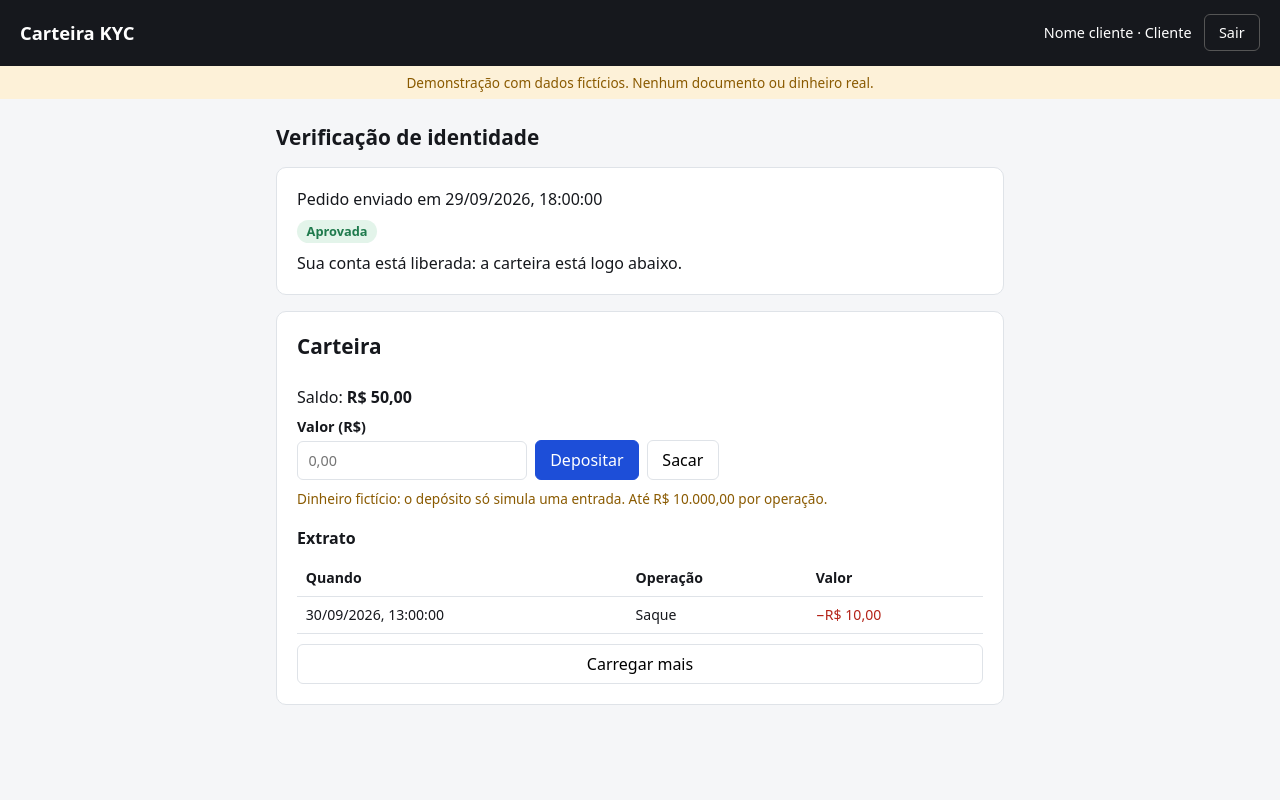
Test: carteira › carrega a página seguinte do extrato só com o cursor
Step 1. Click the button "Carregar mais" → (640, 664), box top-left (297, 644), bottom-right (983, 684)
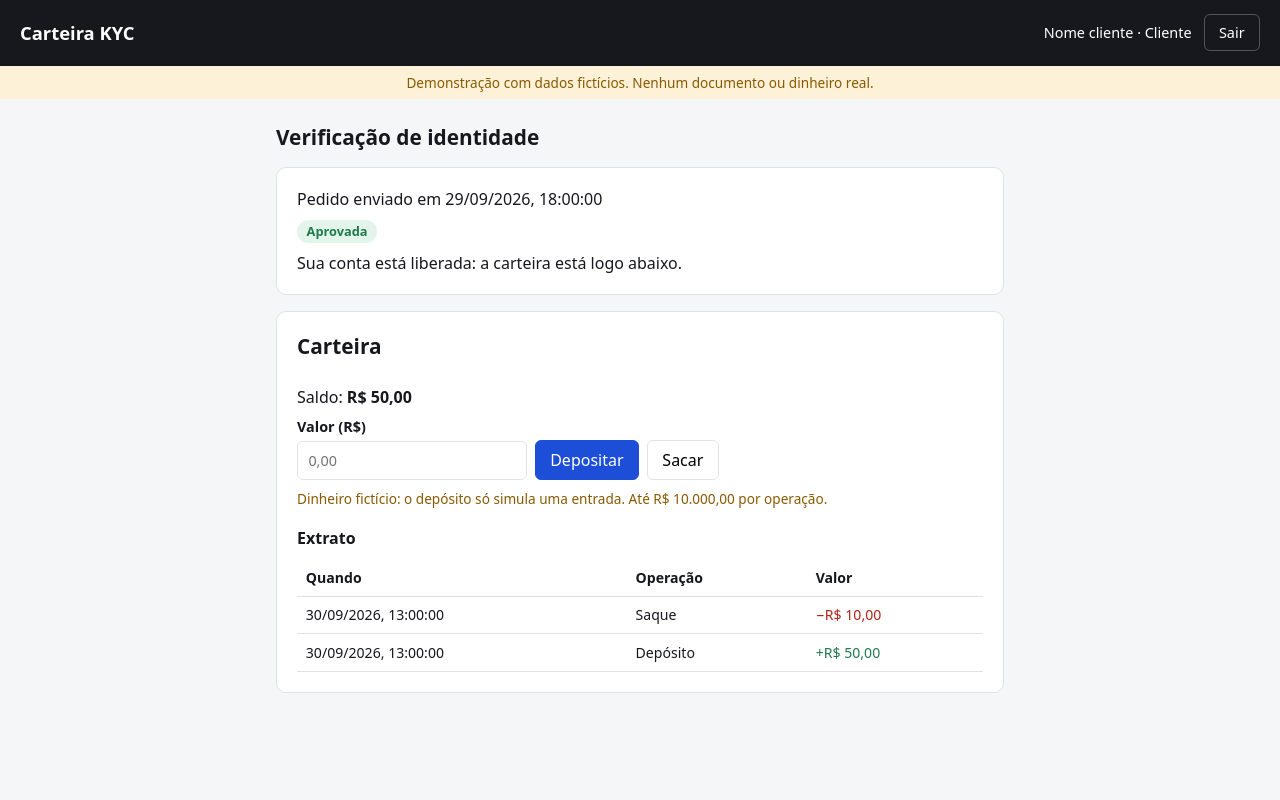
expect the text "Saque" is shown: met, box top-left (627, 596), bottom-right (807, 634)
expect the text "Depósito" is shown: met, box top-left (627, 634), bottom-right (807, 671)
expect the button "Carregar mais" is gone: met
